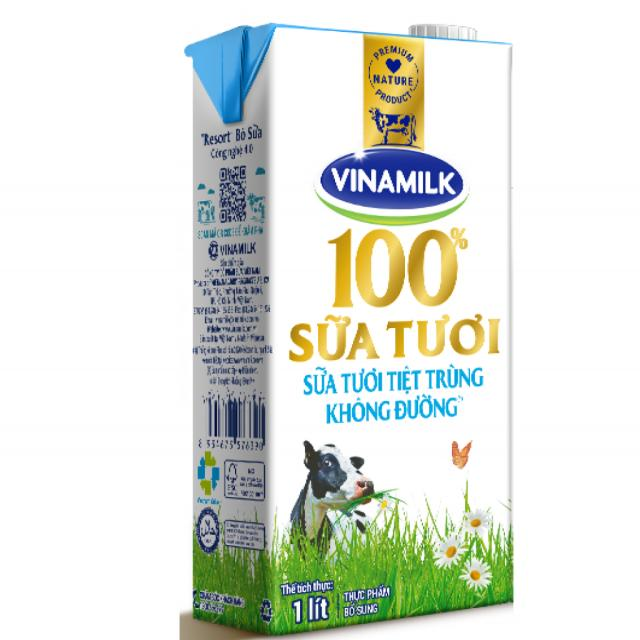non_white_jug: (153, 19, 524, 640)
